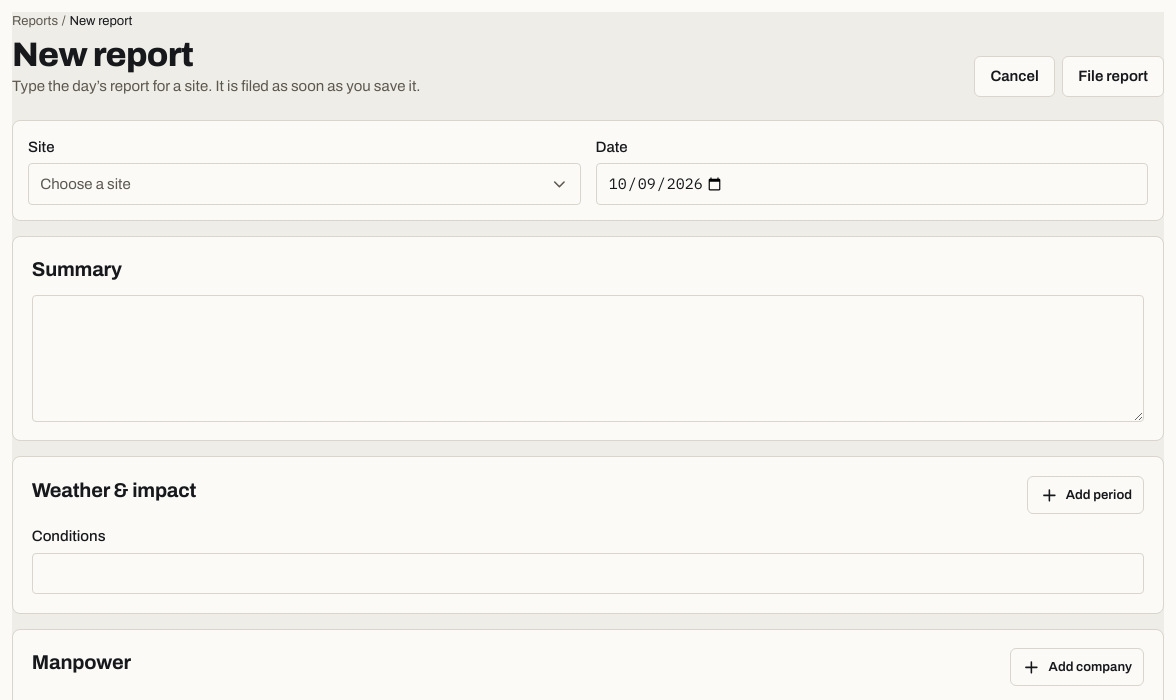
Scenario: NewReportPage › refuses an empty report and a future date
Click the dropdown with test id "new-report-site" at (85, 184), box [28, 163, 580, 205]
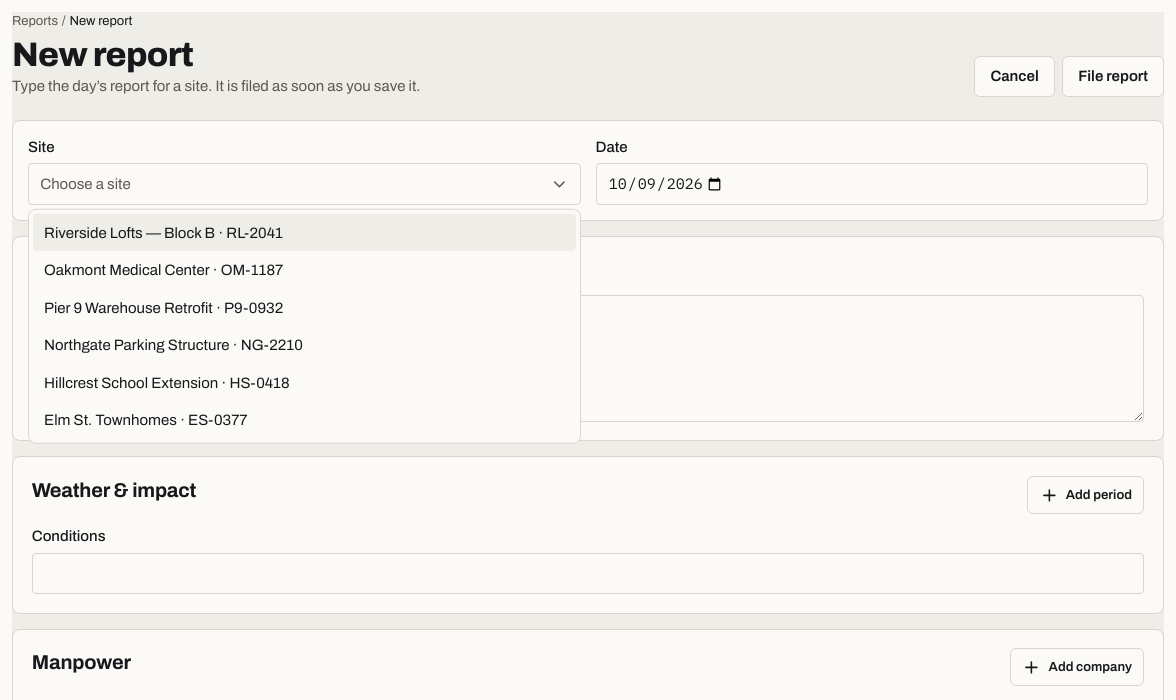
Click the option "Elm St. Townhomes · ES-0377" at (146, 420), box [44, 412, 248, 428]
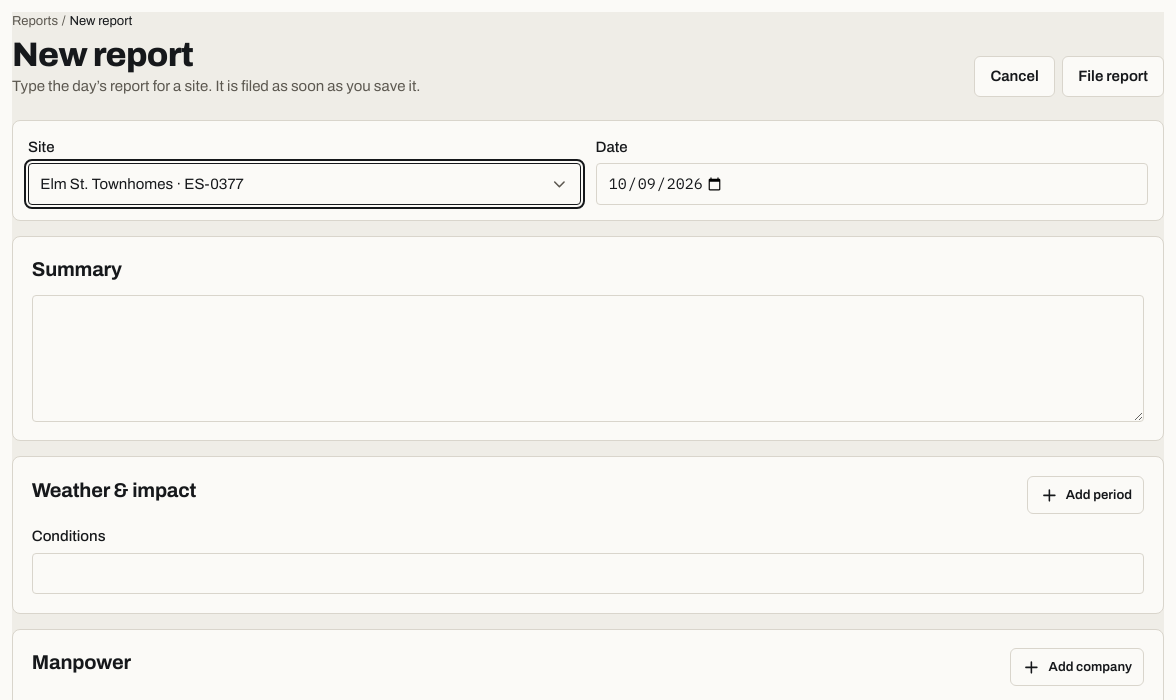
Type "2026-10-12" into the date field with test id "new-report-date" at (872, 184), box [596, 163, 1148, 205]
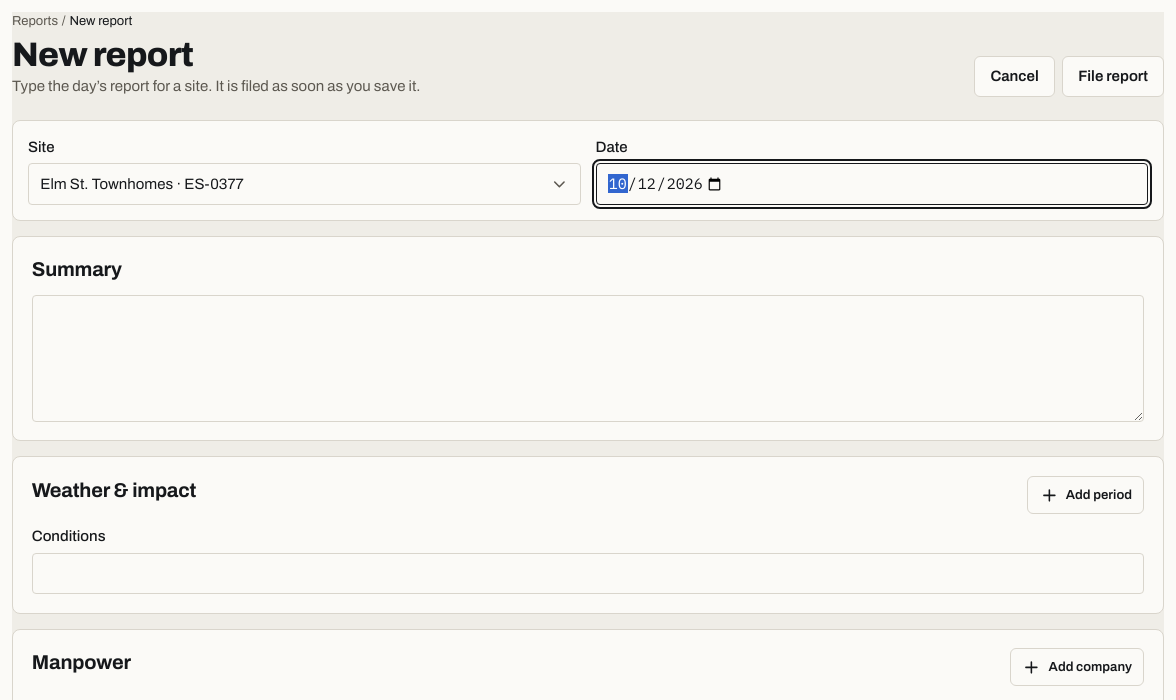
Click the button with test id "file-report" at (1113, 77), box [1062, 56, 1164, 97]
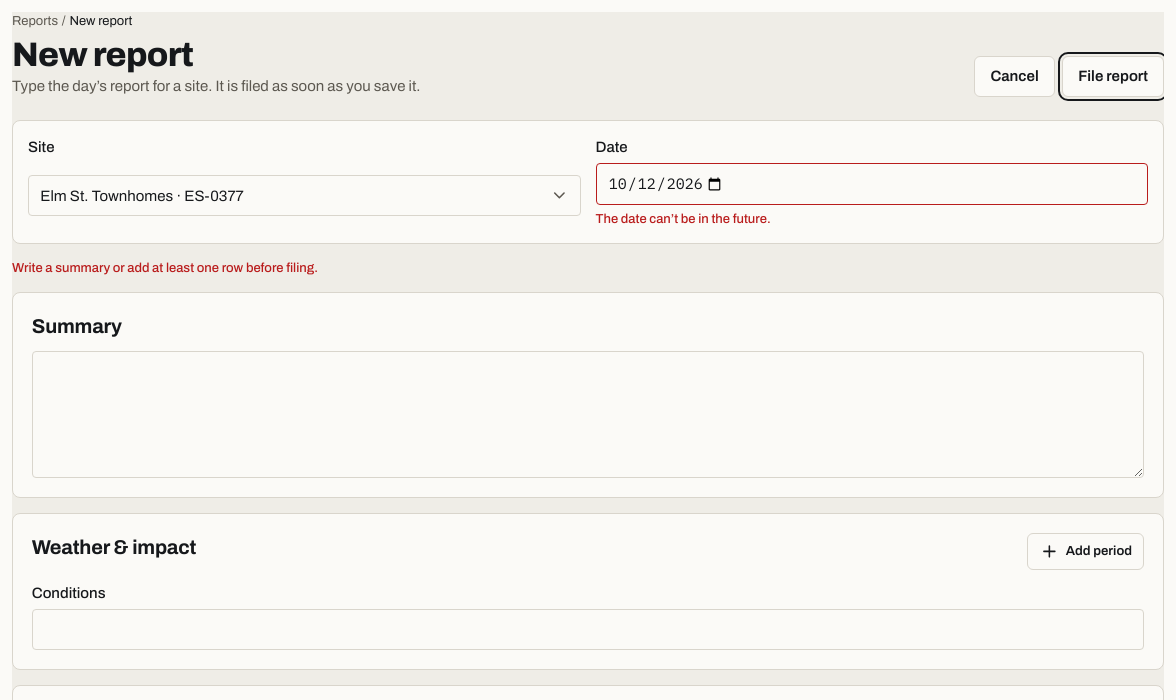
Check: the text "The date can’t be in the future." is shown, box [596, 212, 771, 226]
Check: the text "Write a summary or add at least one row before filing." is shown, box [12, 261, 318, 275]
